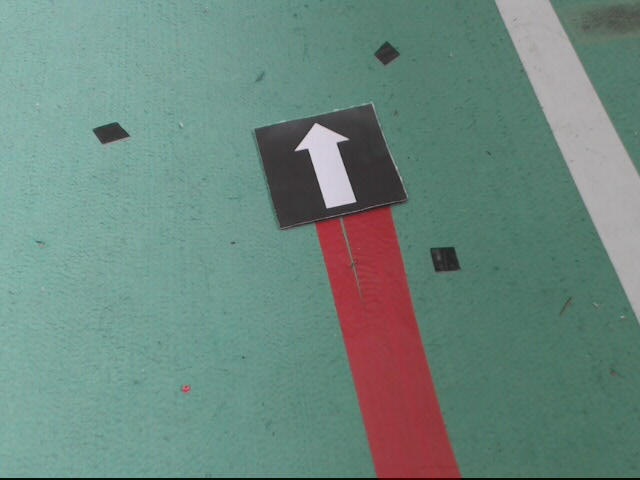straight: (252, 104, 414, 230)
